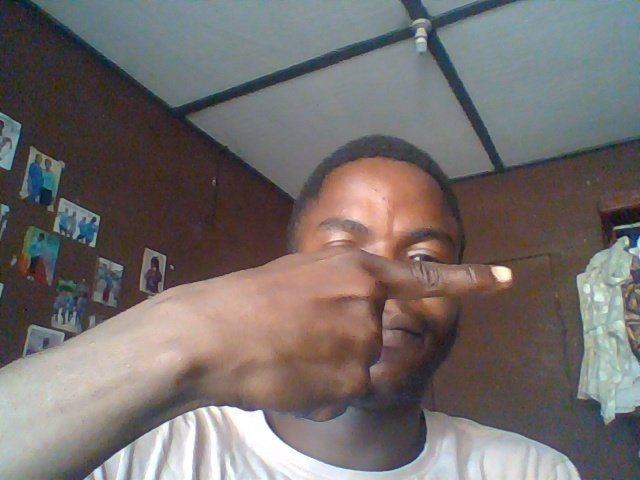Left: (186, 243, 515, 413)
